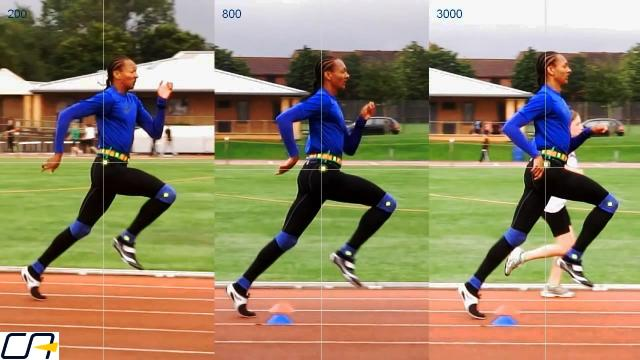berlari: (220, 51, 400, 323), (455, 44, 621, 328), (23, 50, 178, 303)
